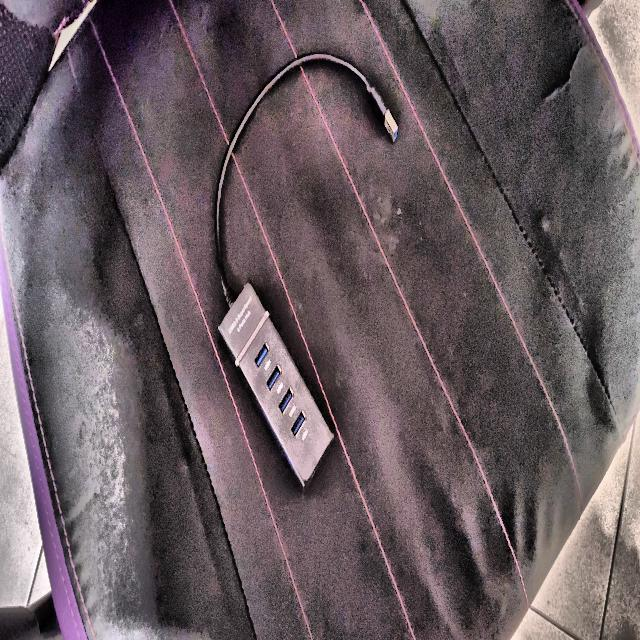HUB: (214, 53, 398, 487)
